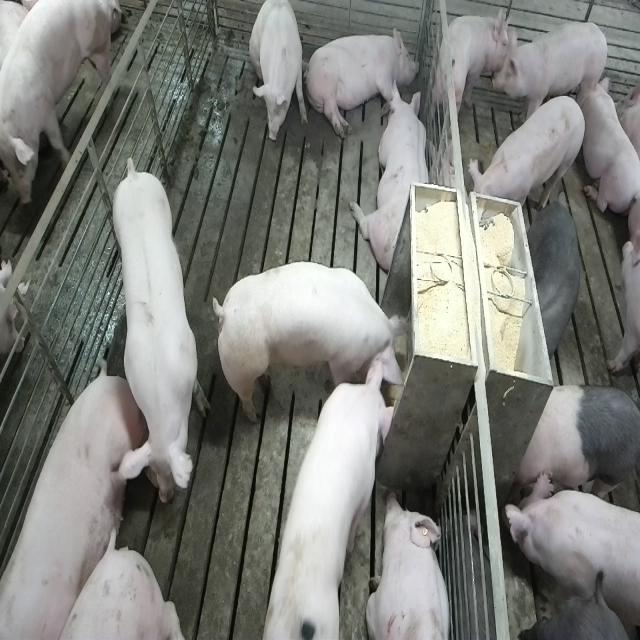Feeding: (255, 352, 402, 636), (209, 258, 409, 424)
Lateral_lying: (304, 22, 418, 140)
Sitting: (250, 0, 307, 146)
Standing: (106, 153, 206, 507), (0, 0, 116, 210), (502, 470, 638, 639), (512, 381, 637, 517), (472, 95, 589, 223), (495, 21, 611, 129), (435, 13, 516, 128), (527, 200, 582, 360), (515, 588, 637, 640), (610, 198, 640, 377)
Sternal_lying: (354, 80, 432, 274), (368, 492, 455, 640), (580, 67, 639, 214)
